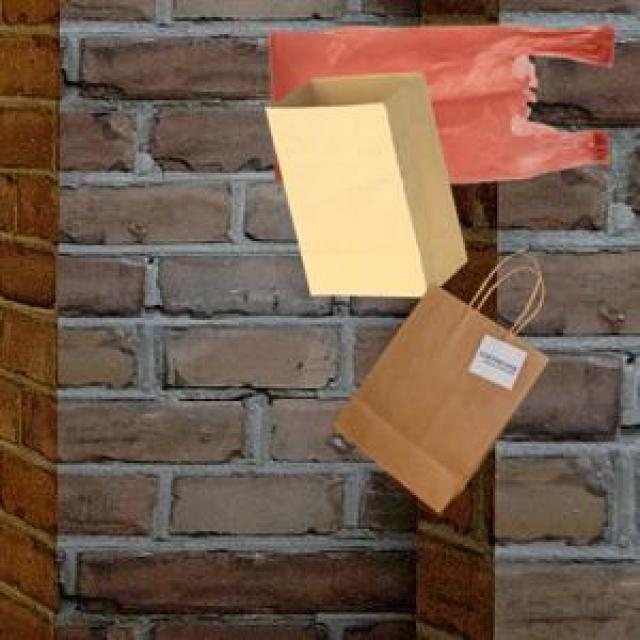paper: (329, 280, 544, 510), (262, 68, 463, 292)
